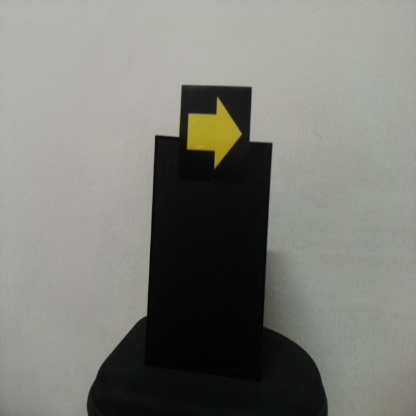id_3: (180, 86, 251, 181)
